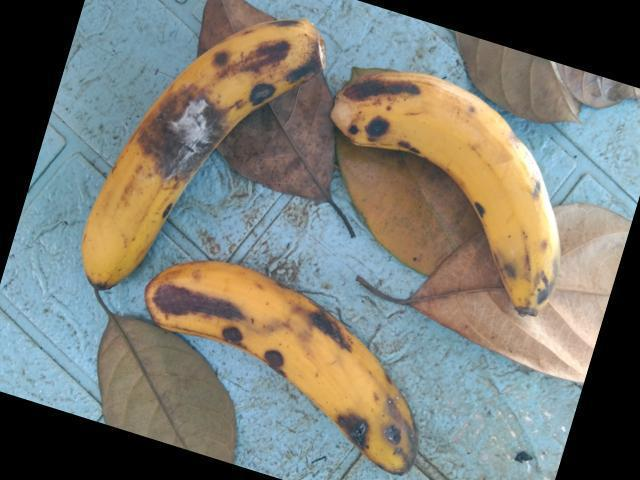overripe: (73, 19, 326, 298), (142, 254, 436, 479), (327, 49, 564, 298)
rotten: (124, 75, 242, 208)
